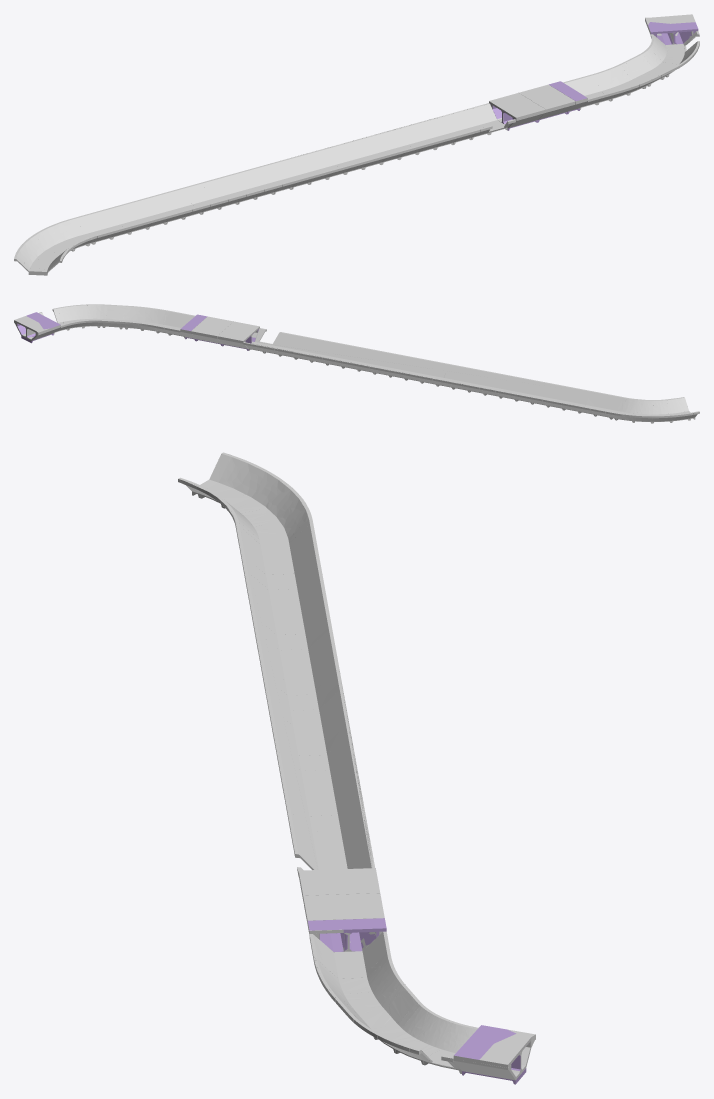
Rendered from 500125-CSSP001-780-XX-MD-ST-000365.glb.
The picture shows the model from 3 angles, top to bottom: view 1: azimuth 30°, elevation 25°; view 2: azimuth 150°, elevation 25°; view 3: azimuth 270°, elevation 25°; orthographic projection. The views are drawn at different scales.
Parts seen in each view (by area): view 1: 500125-CSSP001-780-XX-MD-ST-000365#OTR001, 500125-CSSP001-780-XX-MD-ST-000365#BOX001; view 2: 500125-CSSP001-780-XX-MD-ST-000365#OTR001, 500125-CSSP001-780-XX-MD-ST-000365#BOX001; view 3: 500125-CSSP001-780-XX-MD-ST-000365#OTR001, 500125-CSSP001-780-XX-MD-ST-000365#BOX001.
Boxes of the visible parts, x1=… form: 500125-CSSP001-780-XX-MD-ST-000365#OTR001: x1=14, y1=14, x2=699, y2=275; 500125-CSSP001-780-XX-MD-ST-000365#BOX001: x1=490, y1=22, x2=698, y2=123; 500125-CSSP001-780-XX-MD-ST-000365#OTR001: x1=14, y1=304, x2=699, y2=423; 500125-CSSP001-780-XX-MD-ST-000365#BOX001: x1=17, y1=312, x2=258, y2=343; 500125-CSSP001-780-XX-MD-ST-000365#OTR001: x1=178, y1=452, x2=535, y2=1080; 500125-CSSP001-780-XX-MD-ST-000365#BOX001: x1=308, y1=918, x2=526, y2=1084.
Bounding box in the file's own units: 123 × 3.94 × 30.99.
